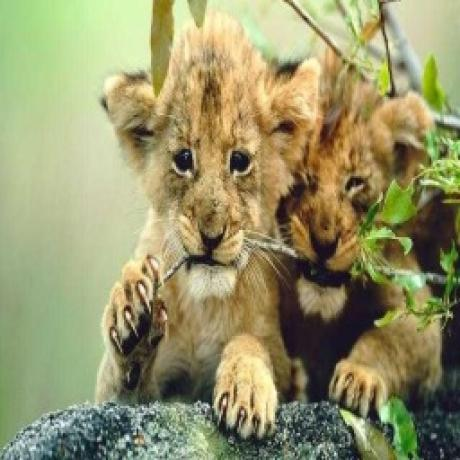Lion: (97, 20, 321, 444), (279, 47, 459, 424)
